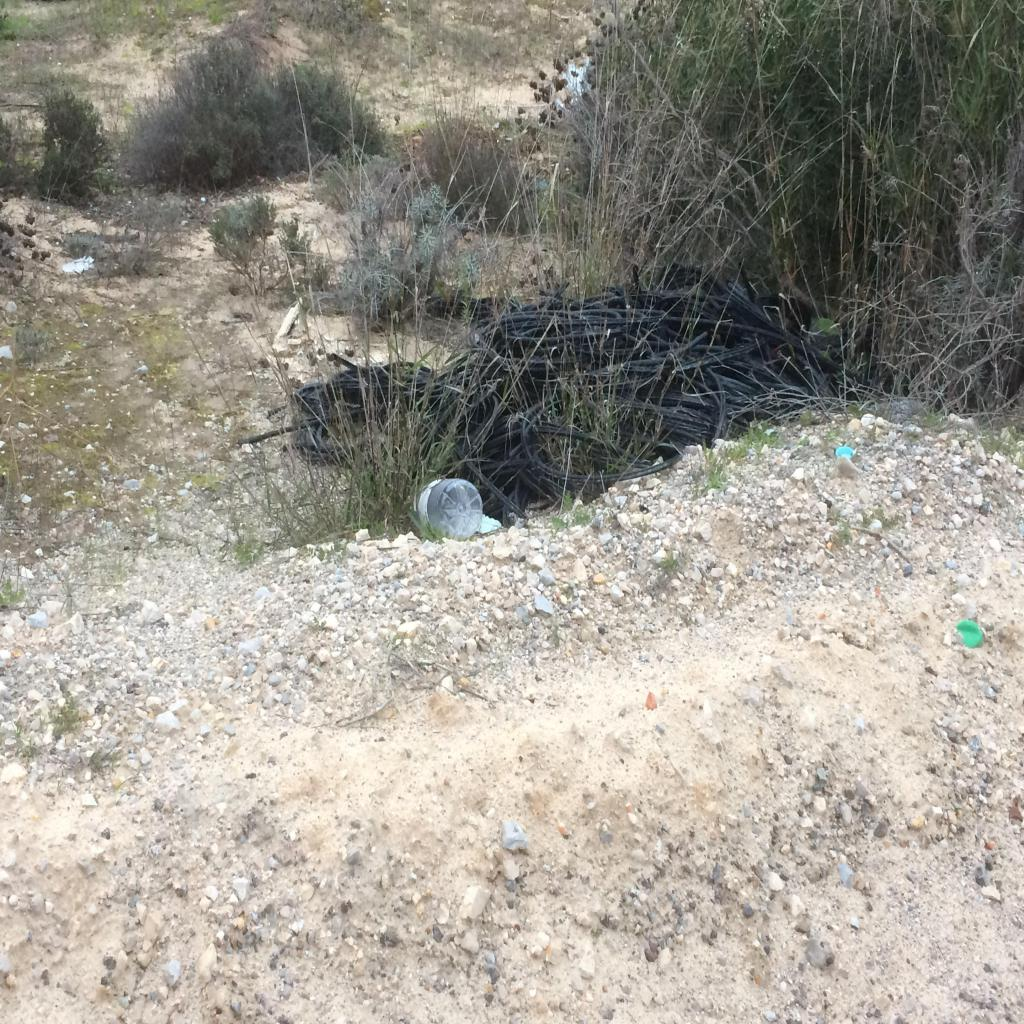Clear plastic bottle: (412, 478, 482, 540)
Plastic bottle cap: (956, 620, 984, 647), (834, 446, 854, 458)
Unlabeled litter: (478, 514, 502, 534)
